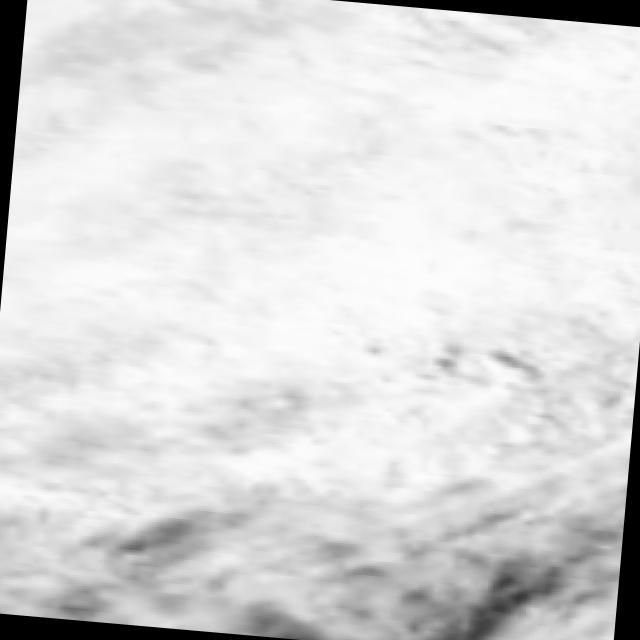CB: (28, 101, 432, 358), (425, 79, 640, 287)
